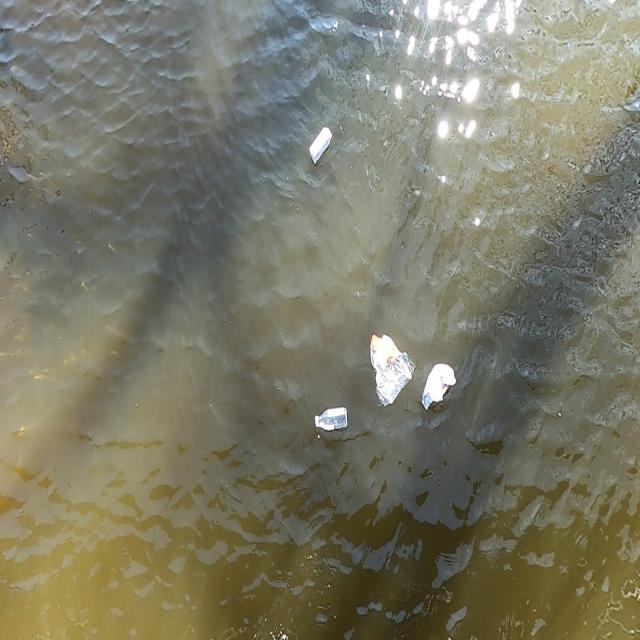Bouteille plastique: (312, 407, 352, 437)
Non plastique: (310, 122, 334, 177)
